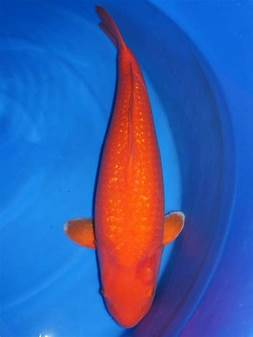red: (64, 5, 184, 328)
